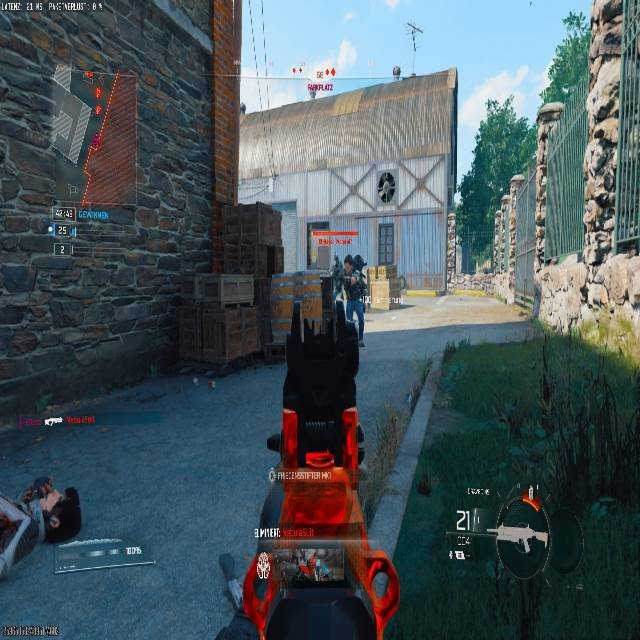head: (334, 250, 361, 272), (346, 254, 365, 270), (343, 253, 356, 270)
player: (341, 254, 368, 343), (377, 171, 395, 202)
